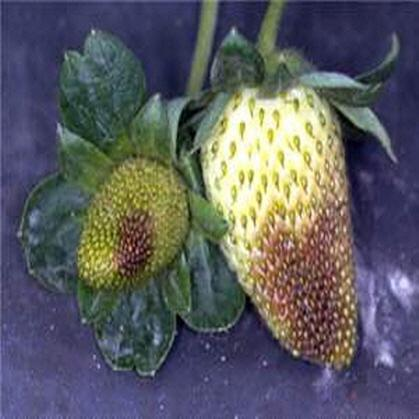Anthracnose Fruit Rot: (248, 153, 358, 366), (105, 201, 155, 285)
